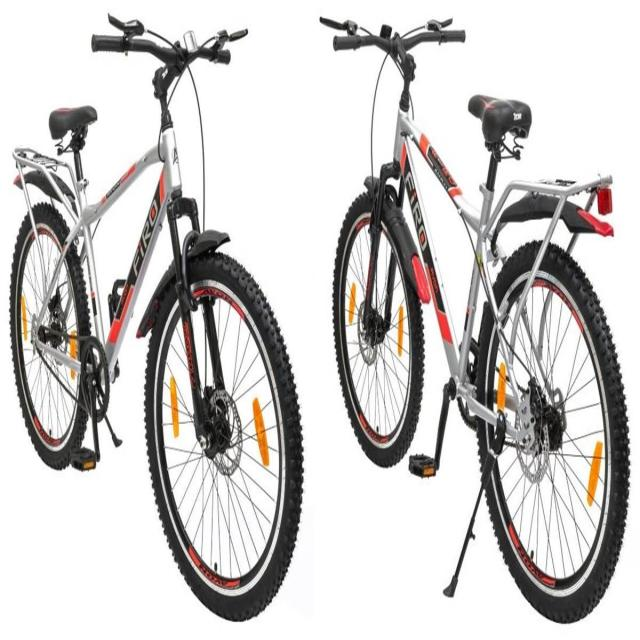bicycle: (321, 18, 629, 621), (10, 16, 302, 619)
